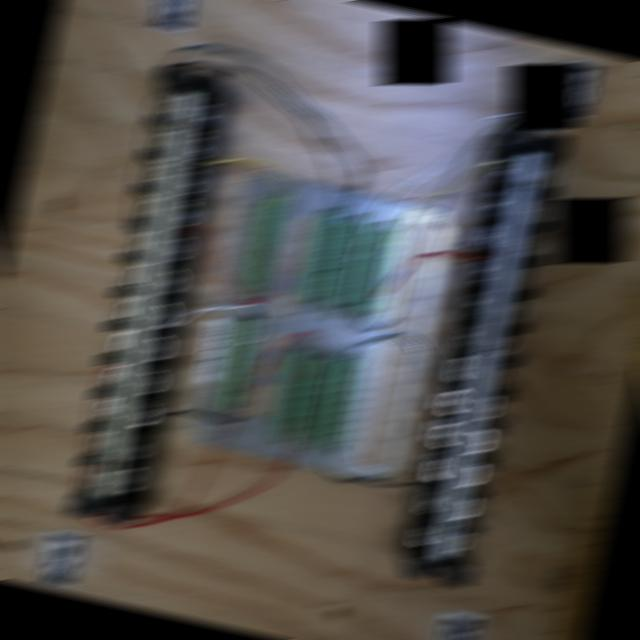Flathead_Block: (66, 63, 224, 524)
Phillips_Block: (404, 124, 570, 587)
Terminal_1: (214, 316, 260, 412), (241, 195, 286, 290)
Terminal_2: (325, 217, 370, 307), (297, 210, 342, 300), (269, 347, 313, 438), (295, 354, 339, 445), (353, 224, 397, 315)
